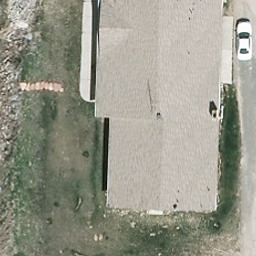car: (234, 18, 254, 64)
